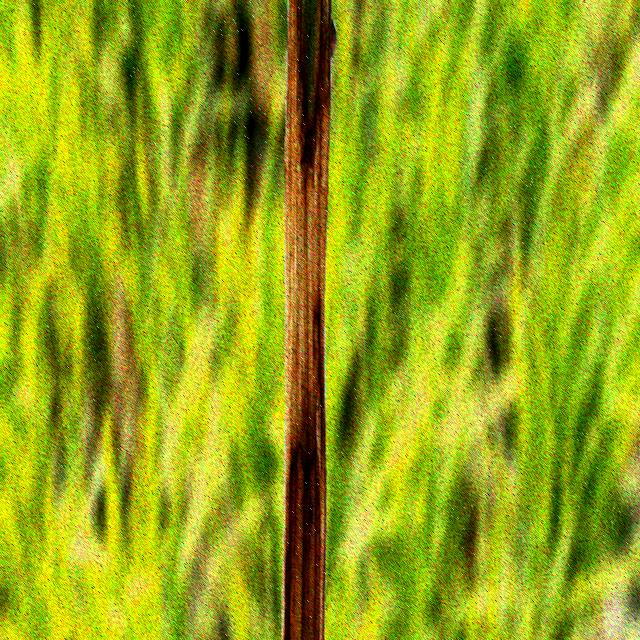BLB: (281, 0, 335, 640)
